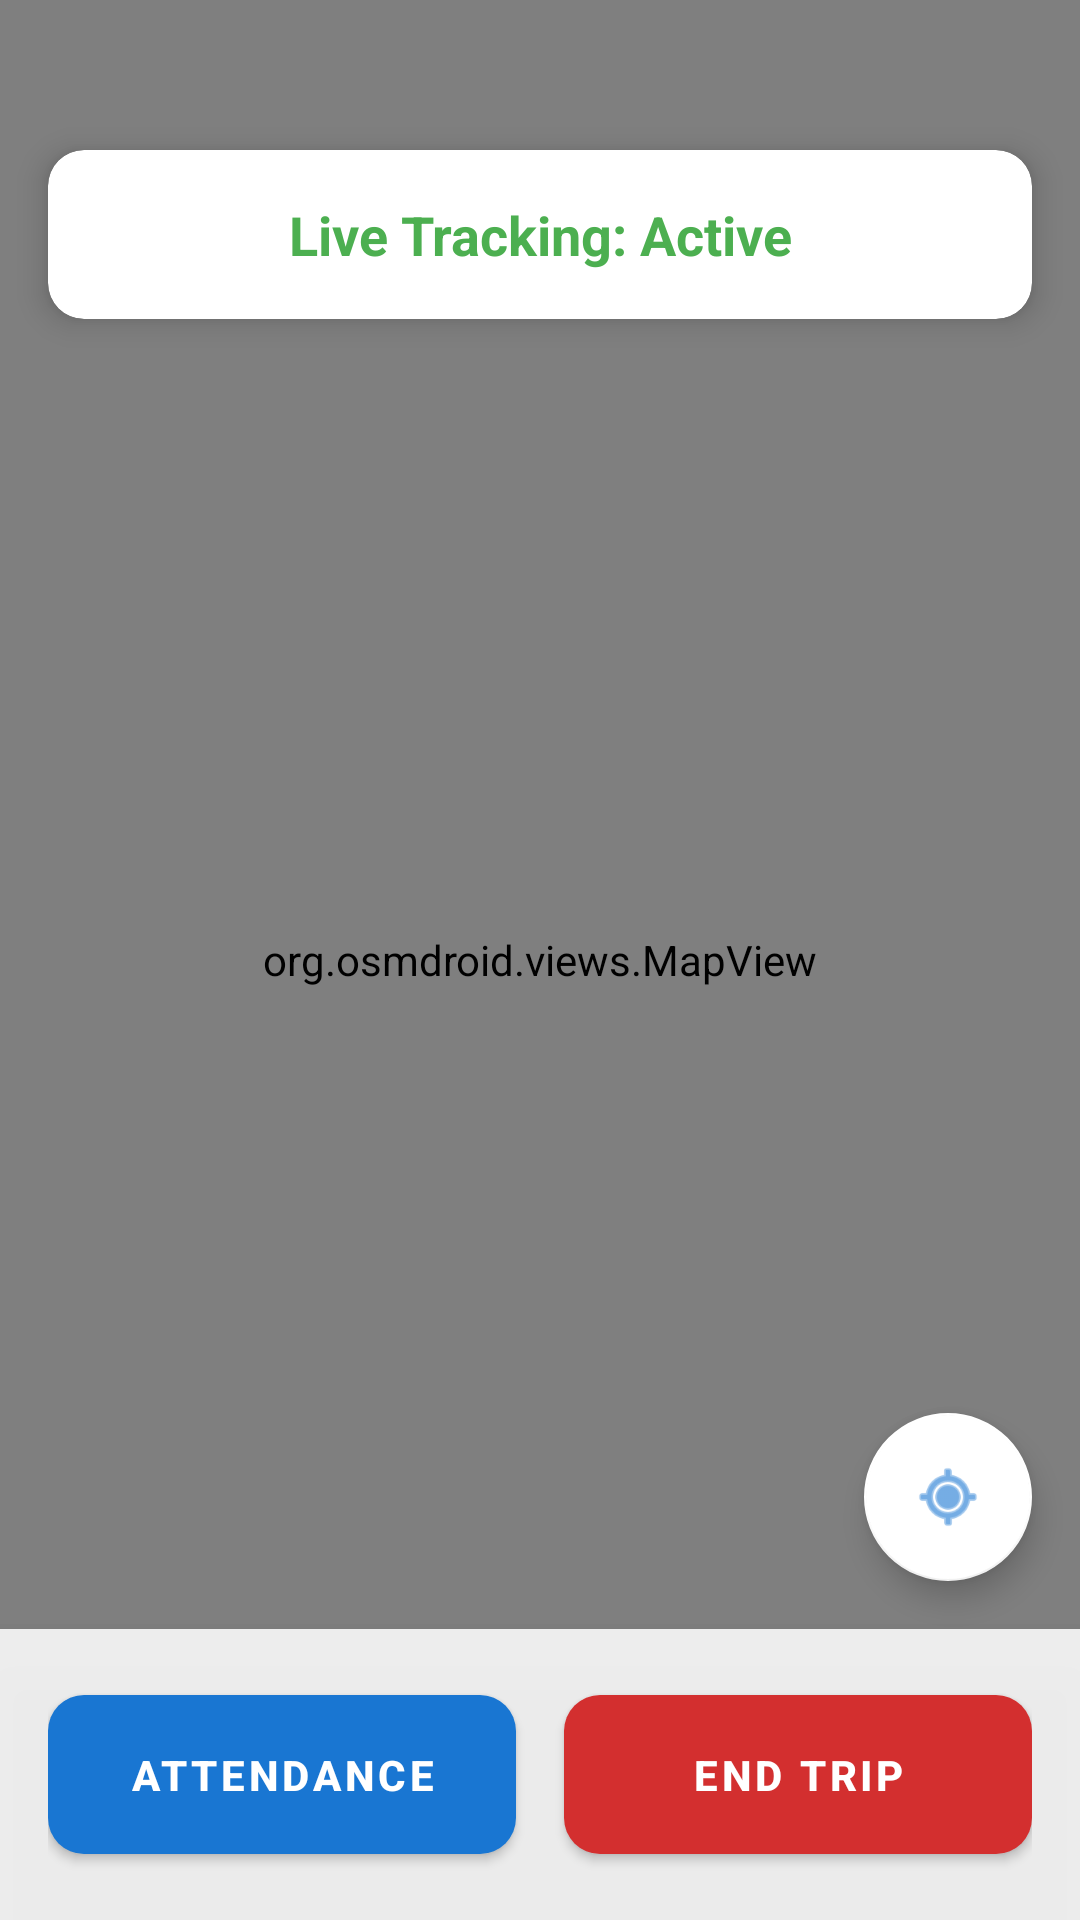

Icons on this 1080 x 1920 Android screen, each with its box as (x1, y1, x2, y2):
Recenter Map: (864, 1413, 1032, 1581)
